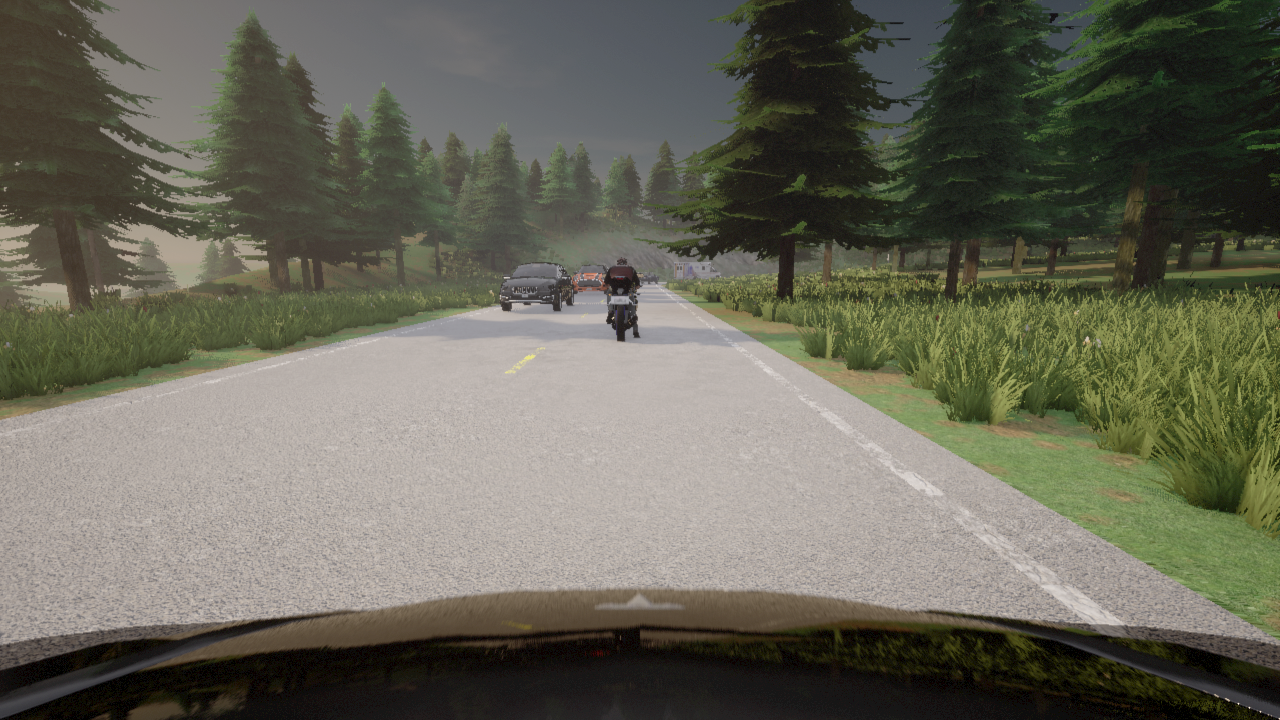cyclist: (0, 588, 1279, 719), (499, 262, 573, 311), (602, 273, 643, 340), (572, 265, 607, 293), (674, 262, 720, 279), (637, 272, 658, 284), (605, 265, 607, 270)
